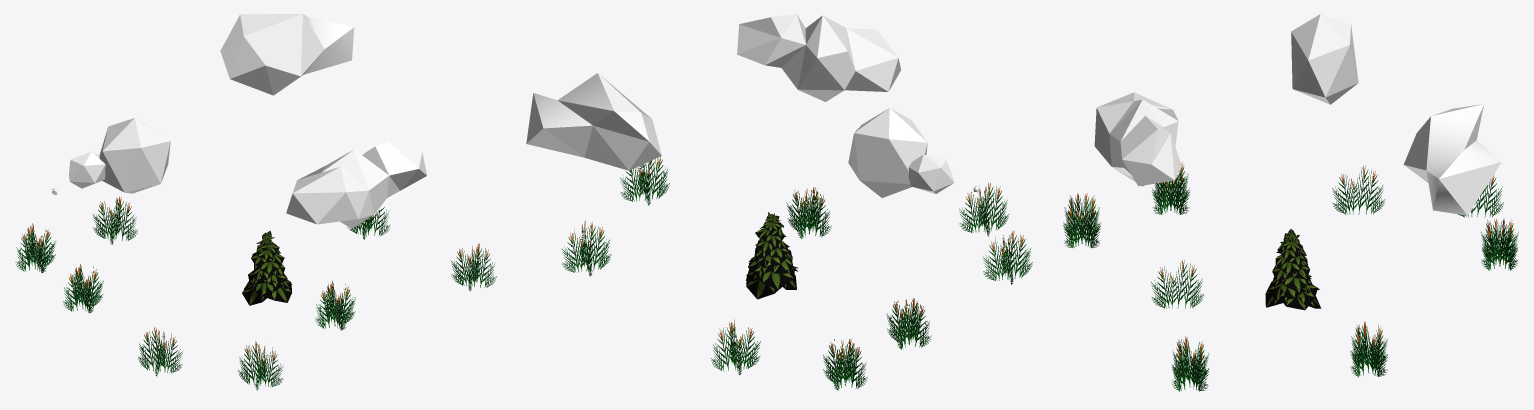
Rendered from Clouds2_3.obj.
3 renders of one model, left to right at view 1: azimuth 30°, elevation 25°; view 2: azimuth 150°, elevation 25°; view 3: azimuth 270°, elevation 25°, orthographic. The views are drawn at different scales.
Parts seen in each view (by area): view 1: Icosphere_Icosphere.017, Icosphere.001_Icosphere.015, Icosphere.003_Icosphere.022, hemp, Grass.011_Plane_Plane.016, Grass.012_Plane_Plane.017, Grass.007_Plane_Plane.012, Grass.013_Plane_Plane.018, Grass.008_Plane_Plane.013, Grass.015_Plane_Plane.020, Grass.005_Plane_Plane.010, Grass.002_Plane_Plane.003; view 2: Icosphere.001_Icosphere.015, Icosphere_Icosphere.017, Icosphere.003_Icosphere.022, hemp, Grass.002_Plane_Plane.003, Grass.008_Plane_Plane.013, Grass.011_Plane_Plane.016, Grass.013_Plane_Plane.018, Grass.007_Plane_Plane.012, Grass.012_Plane_Plane.017, Grass.005_Plane_Plane.010, Grass.015_Plane_Plane.020; view 3: Icosphere_Icosphere.017, Icosphere.001_Icosphere.015, Icosphere.003_Icosphere.022, hemp, Grass.011_Plane_Plane.016, Grass.005_Plane_Plane.010, Grass.002_Plane_Plane.003, Grass.015_Plane_Plane.020, Grass.013_Plane_Plane.018, Grass.007_Plane_Plane.012, Grass.012_Plane_Plane.017, Grass.008_Plane_Plane.013.
Part boxes in pixels (left/top/right/bottom): Icosphere_Icosphere.017: left=220, top=14, right=354, bottom=95; Icosphere.001_Icosphere.015: left=286, top=141, right=426, bottom=228; Icosphere.003_Icosphere.022: left=52, top=118, right=170, bottom=194; hemp: left=242, top=230, right=292, bottom=305; Grass.011_Plane_Plane.016: left=238, top=341, right=283, bottom=390; Grass.012_Plane_Plane.017: left=138, top=327, right=182, bottom=376; Grass.007_Plane_Plane.012: left=63, top=264, right=103, bottom=313; Grass.013_Plane_Plane.018: left=315, top=281, right=355, bottom=330; Grass.008_Plane_Plane.013: left=15, top=223, right=56, bottom=273; Grass.015_Plane_Plane.020: left=451, top=243, right=496, bottom=291; Grass.005_Plane_Plane.010: left=93, top=197, right=137, bottom=244; Grass.002_Plane_Plane.003: left=347, top=207, right=390, bottom=239; Icosphere.001_Icosphere.015: left=737, top=14, right=900, bottom=101; Icosphere_Icosphere.017: left=526, top=73, right=661, bottom=170; Icosphere.003_Icosphere.022: left=848, top=108, right=980, bottom=197; hemp: left=746, top=212, right=797, bottom=299; Grass.002_Plane_Plane.003: left=561, top=220, right=611, bottom=276; Grass.008_Plane_Plane.013: left=823, top=339, right=867, bottom=390; Grass.011_Plane_Plane.016: left=959, top=182, right=1008, bottom=236; Grass.013_Plane_Plane.018: left=786, top=187, right=831, bottom=238; Grass.007_Plane_Plane.012: left=886, top=298, right=931, bottom=349; Grass.012_Plane_Plane.017: left=983, top=231, right=1032, bottom=284; Grass.005_Plane_Plane.010: left=711, top=319, right=760, bottom=374; Grass.015_Plane_Plane.020: left=620, top=156, right=669, bottom=205; Icosphere_Icosphere.017: left=1403, top=104, right=1501, bottom=215; Icosphere.001_Icosphere.015: left=1094, top=92, right=1181, bottom=186; Icosphere.003_Icosphere.022: left=1291, top=14, right=1358, bottom=104; hemp: left=1265, top=229, right=1321, bottom=310; Grass.011_Plane_Plane.016: left=1063, top=193, right=1100, bottom=248; Grass.005_Plane_Plane.010: left=1481, top=219, right=1518, bottom=270; Grass.002_Plane_Plane.003: left=1350, top=321, right=1387, bottom=377; Grass.015_Plane_Plane.020: left=1171, top=336, right=1209, bottom=391; Grass.013_Plane_Plane.018: left=1151, top=259, right=1203, bottom=308; Grass.007_Plane_Plane.012: left=1332, top=165, right=1385, bottom=214; Grass.012_Plane_Plane.017: left=1152, top=161, right=1189, bottom=214; Grass.008_Plane_Plane.013: left=1458, top=174, right=1503, bottom=217.
Bounding box in the file's own units: 90.14 × 49.74 × 83.84.
Materials: 3 (3 with a texture image).
